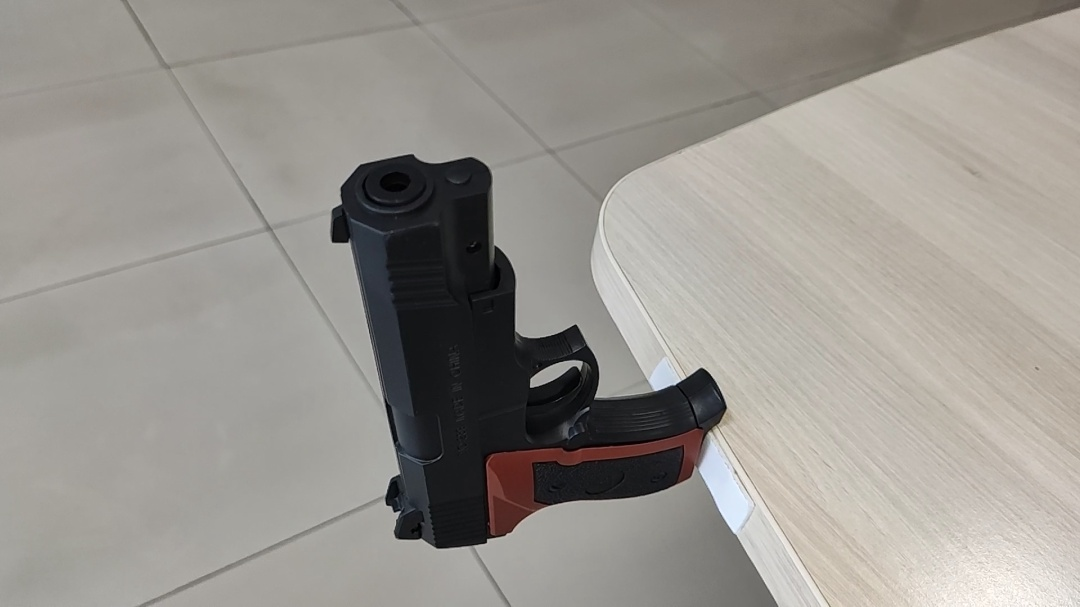gun: (321, 150, 732, 556)
